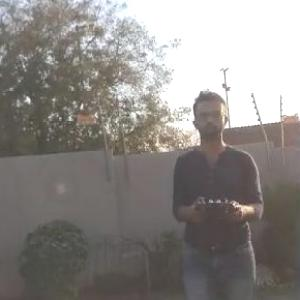follow: (170, 78, 270, 299)
